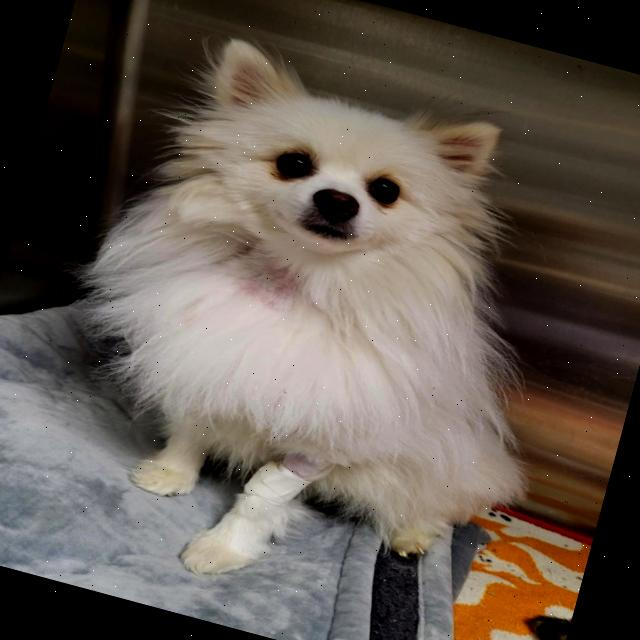pomeranian_dog: (144, 21, 525, 306)
